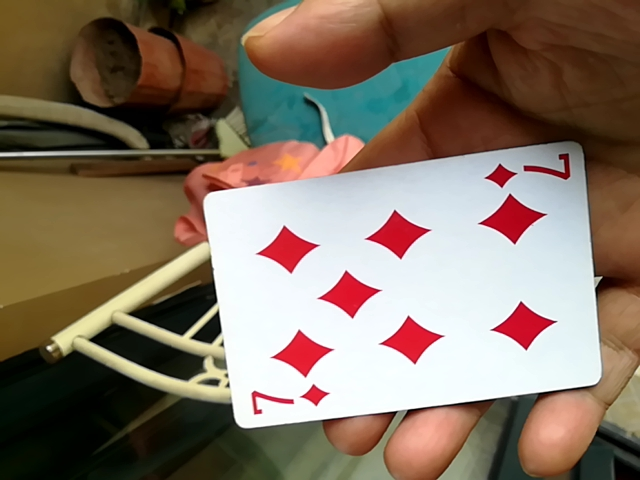fk 7: (194, 137, 598, 422)
